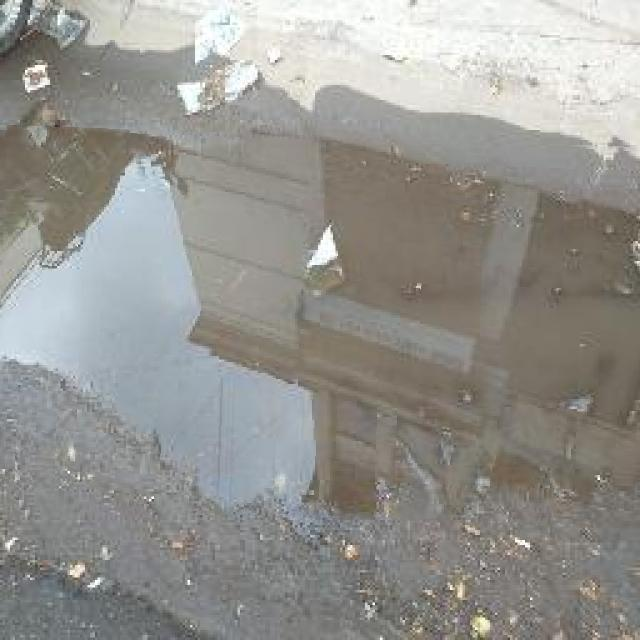puddle: (1, 131, 640, 524)
